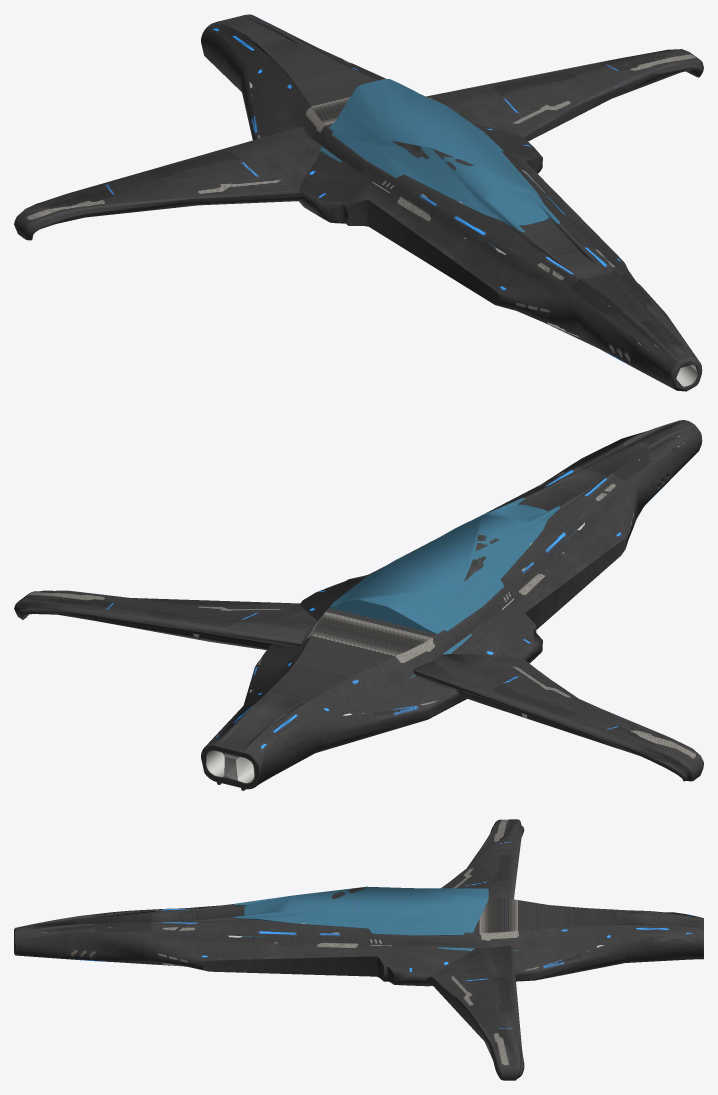
Rendered from fighter.glb.
3 renders of one model, top to bottom at view 1: azimuth 30°, elevation 25°; view 2: azimuth 150°, elevation 25°; view 3: azimuth 270°, elevation 25°, orthographic. The views are drawn at different scales.
Parts seen in each view (by area): view 1: fighter_0; view 2: fighter_0; view 3: fighter_0.
Boxes of the visible parts, x1,y1,x2,y2 form: fighter_0: (14, 14, 703, 391); fighter_0: (14, 420, 703, 790); fighter_0: (14, 819, 703, 1080).
Bounding box in the file's own units: 0.8579 × 0.1 × 1.
1 material, 1 textured.
